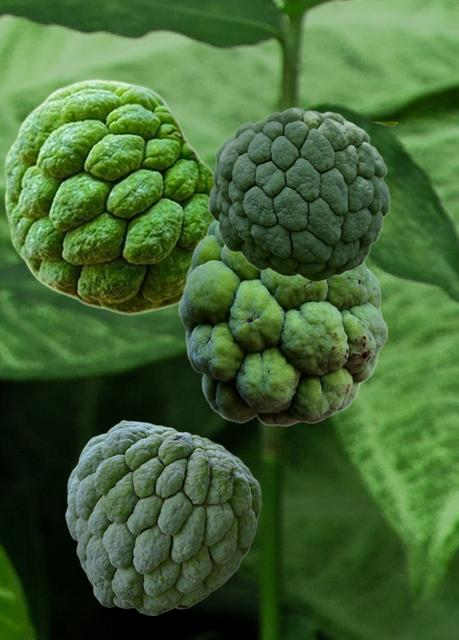atis: (4, 78, 212, 314), (178, 220, 387, 426), (65, 420, 260, 614), (208, 107, 389, 281)
